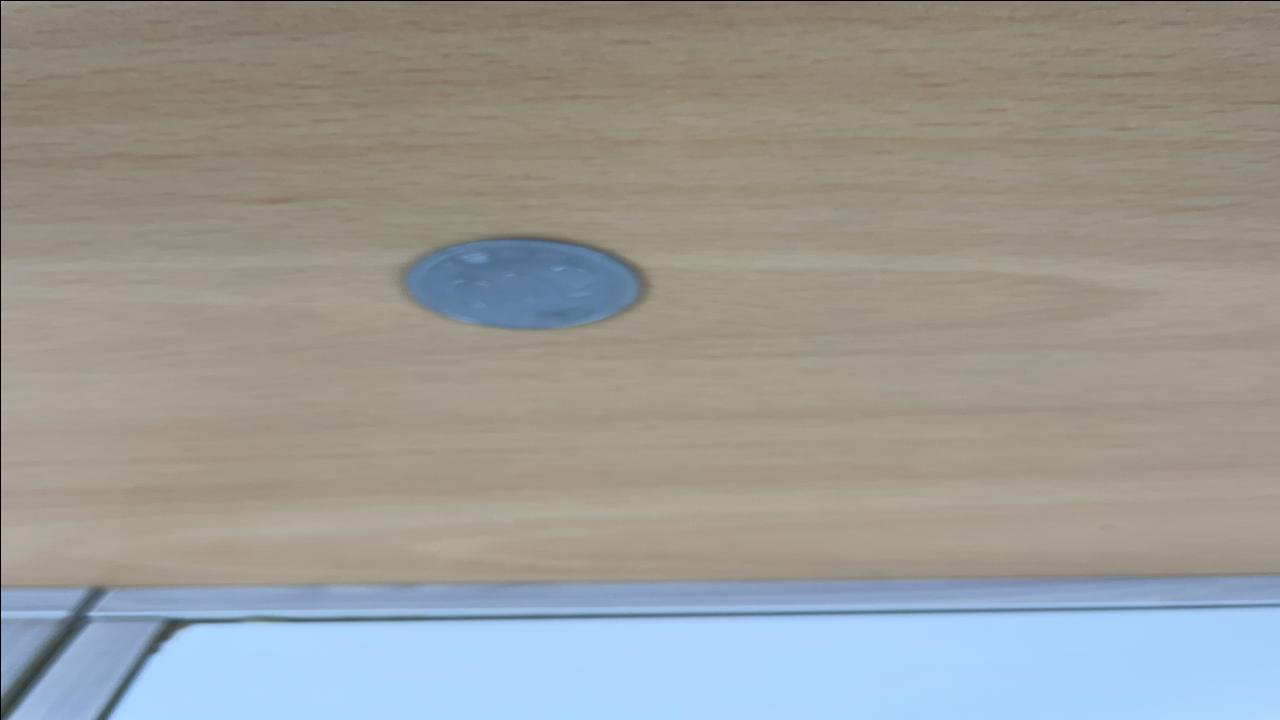coin: (398, 236, 646, 331)
